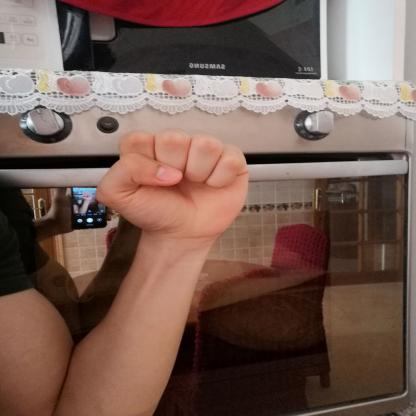SAD: (74, 116, 276, 254)
